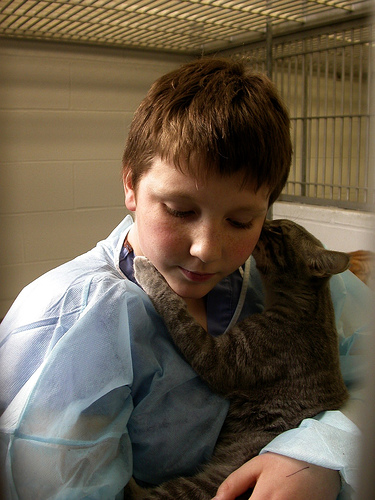without_mask: (120, 126, 274, 297)
